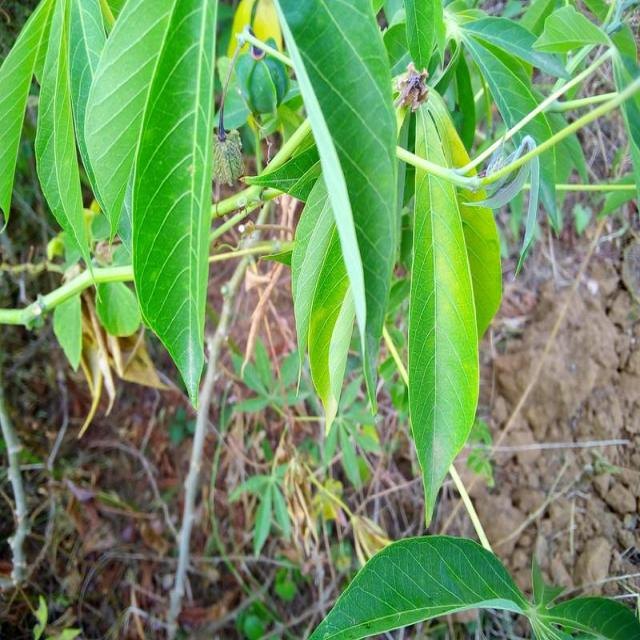cassava leaf: (82, 0, 218, 410), (272, 0, 399, 432), (406, 81, 481, 527), (306, 533, 530, 638)
